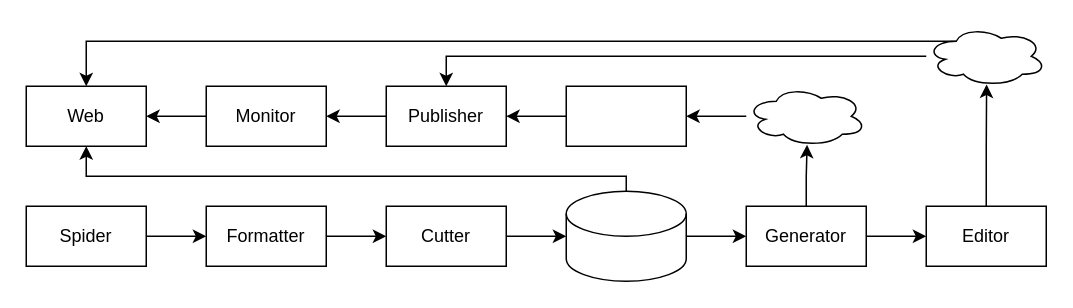
Image size: 1073x308. Some labels were removed from this diagram. Here are the shapes that lost their labels. From the top down, the centre of each, then its label:
[985,55]: Video
[625,115]: Faker
[805,115]: Desc
[625,235]: Library
